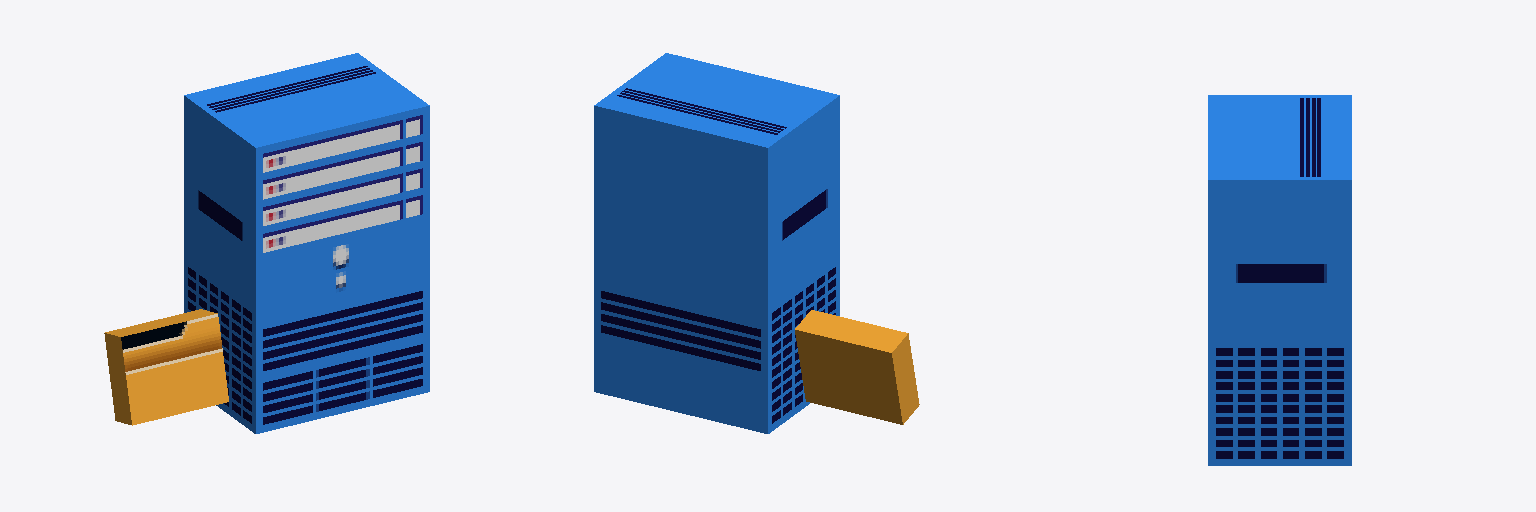
3 renders of one model, left to right at view 1: azimuth 30°, elevation 25°; view 2: azimuth 150°, elevation 25°; view 3: azimuth 270°, elevation 25°, orthographic.
Parts seen in each view (by area): view 1: 立方体.2; view 2: 立方体.2; view 3: 立方体.2.
Boxes of the visible parts, x1,y1,x2,y2 form: 立方体.2: [104, 53, 429, 433]; 立方体.2: [594, 53, 919, 433]; 立方体.2: [1208, 95, 1351, 465].
Bounding box in the file's own units: 69.65 × 69.22 × 31.57.
6 materials, 5 textured.